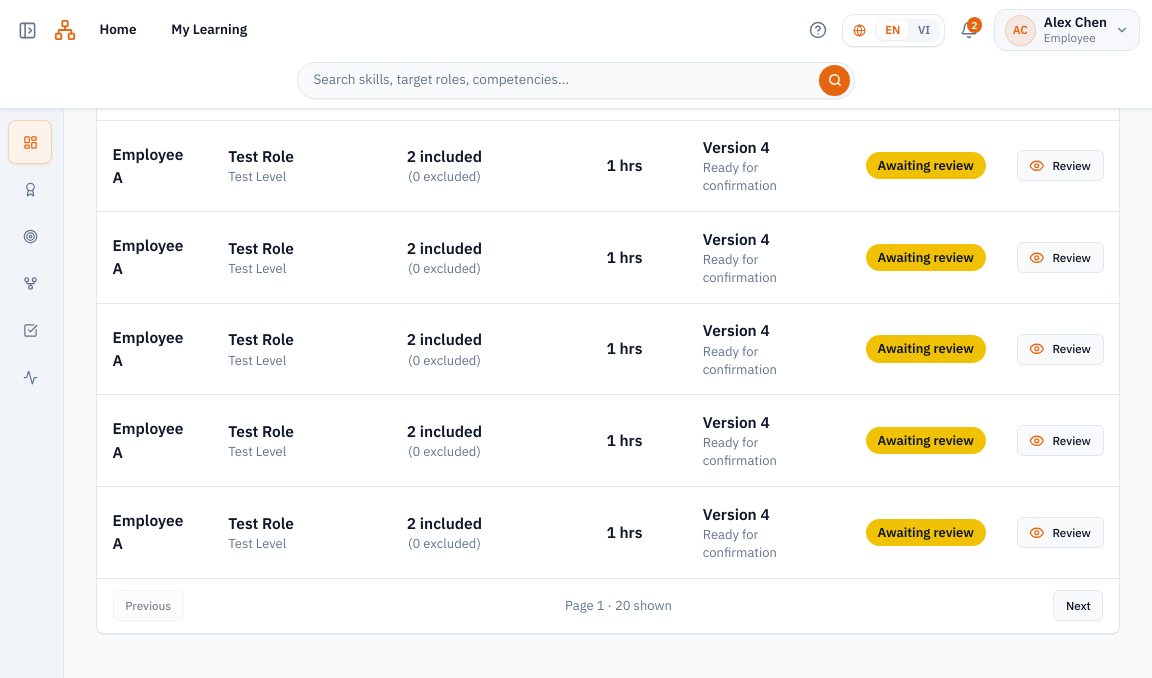
Test: R01 paging requests the next bounded offset and can return to the assigned page
(page scrolled)
expect the button "Previous" is disabled: met, box [112,590,184,621]
Click the button "Next" at (1078, 606), box [1053,590,1104,621]
(page scrolled)
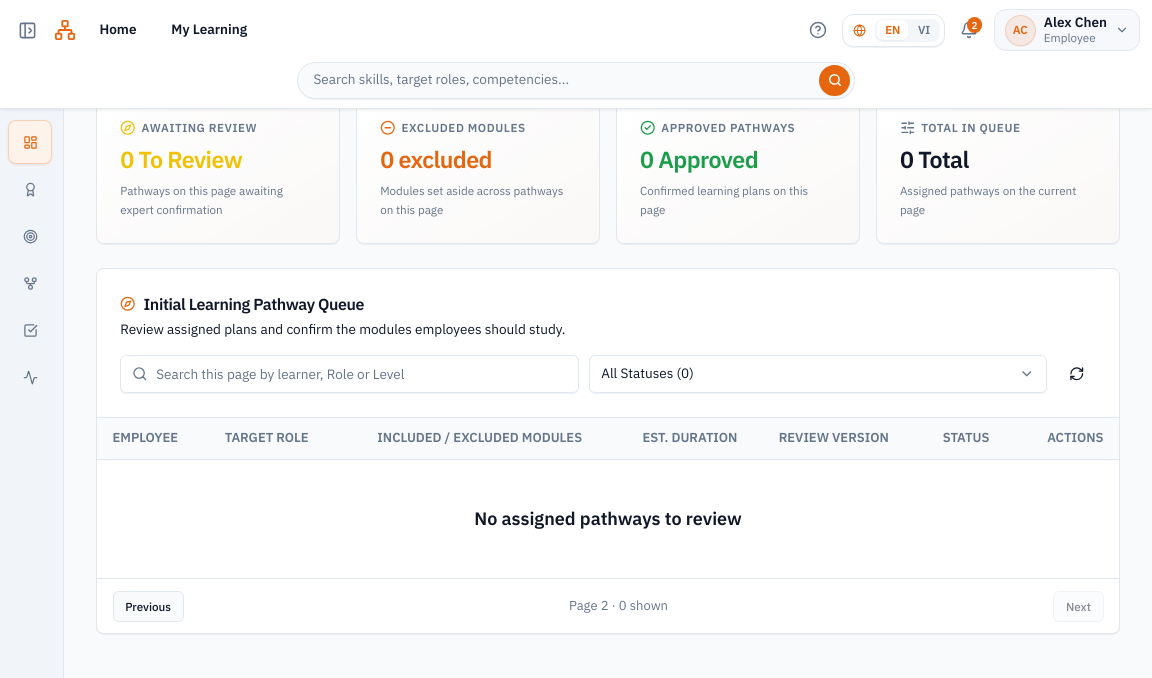
expect the button "Next" is disabled: met, box [1053,591,1104,622]
Click the button "Previous" at (148, 606), box [112,591,184,622]
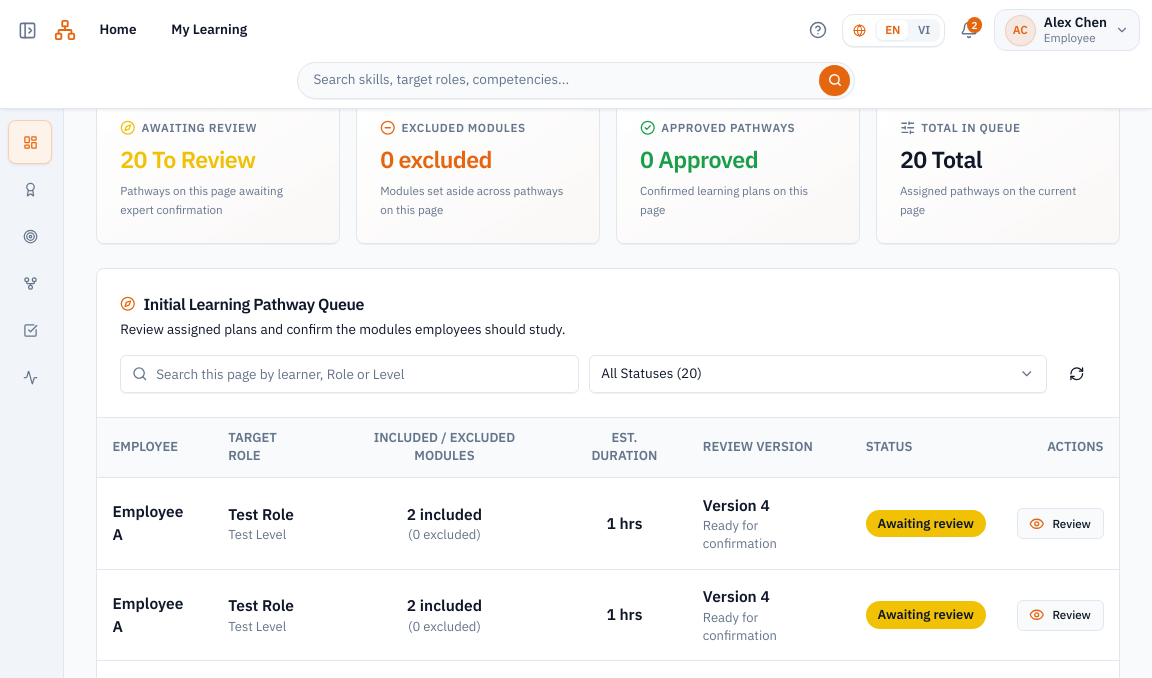
expect the number of links "Review" is 20: met
